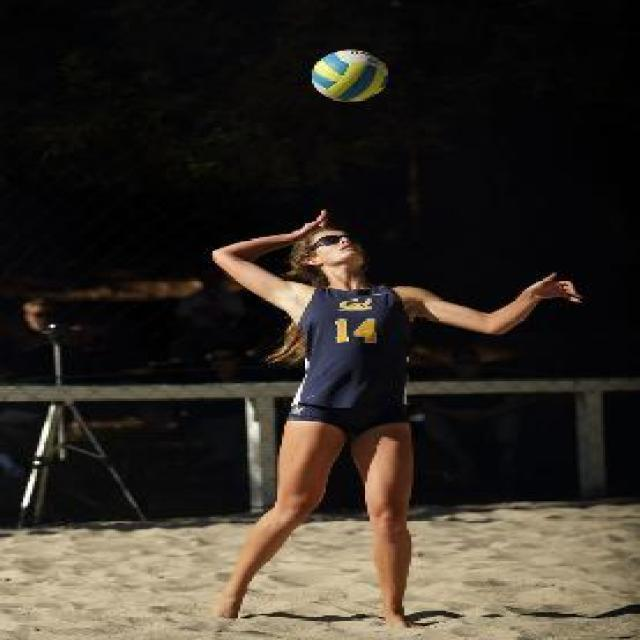volleyball: (312, 50, 388, 103)
